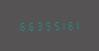five: (41, 20, 48, 31), (49, 20, 56, 30)
one: (57, 19, 64, 30), (73, 19, 80, 30)
six: (17, 20, 24, 31), (25, 20, 32, 31), (65, 19, 72, 30)
three: (33, 20, 40, 31)
